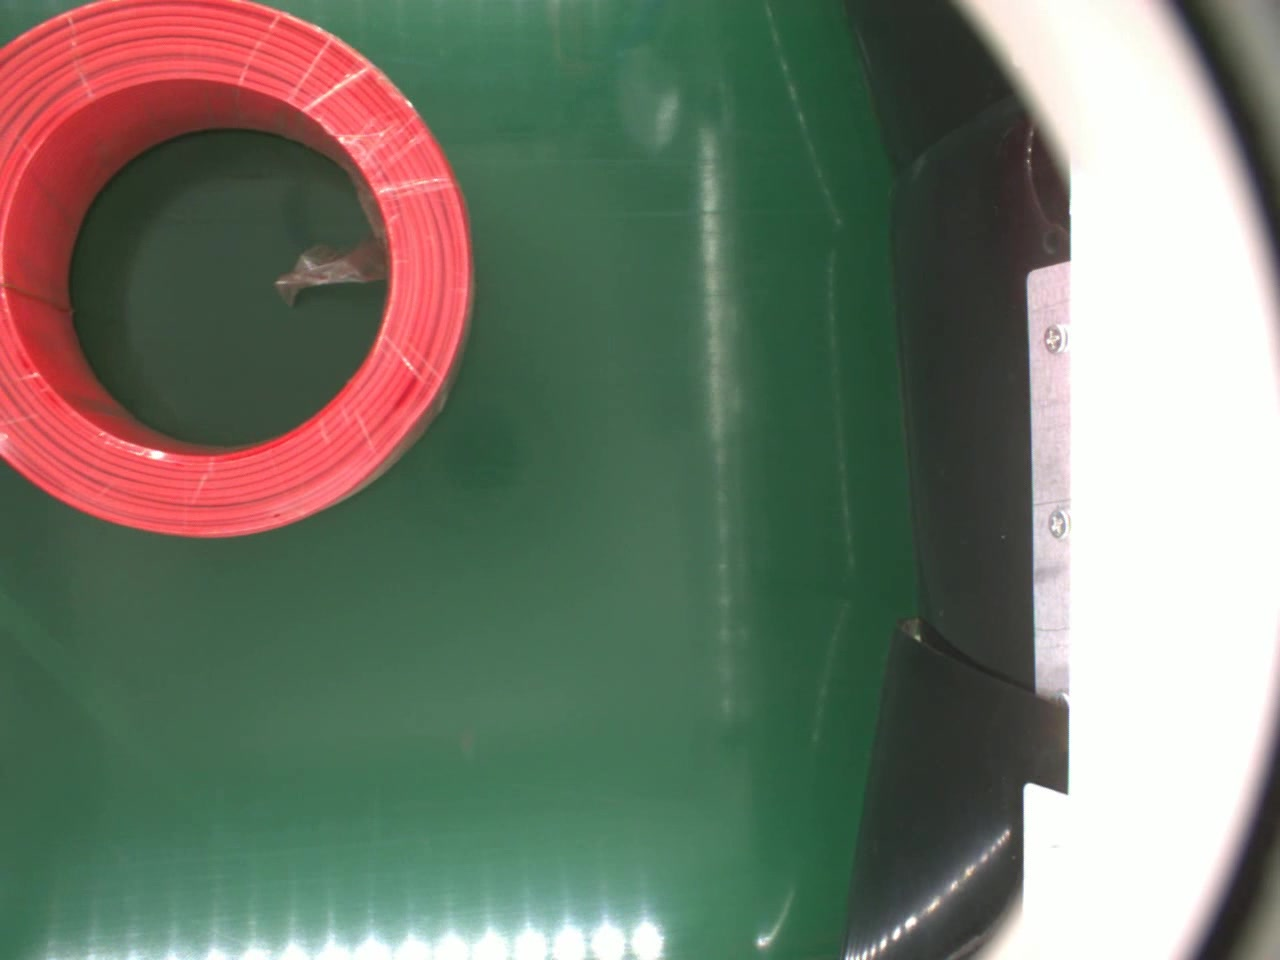red: (0, 0, 472, 541)
